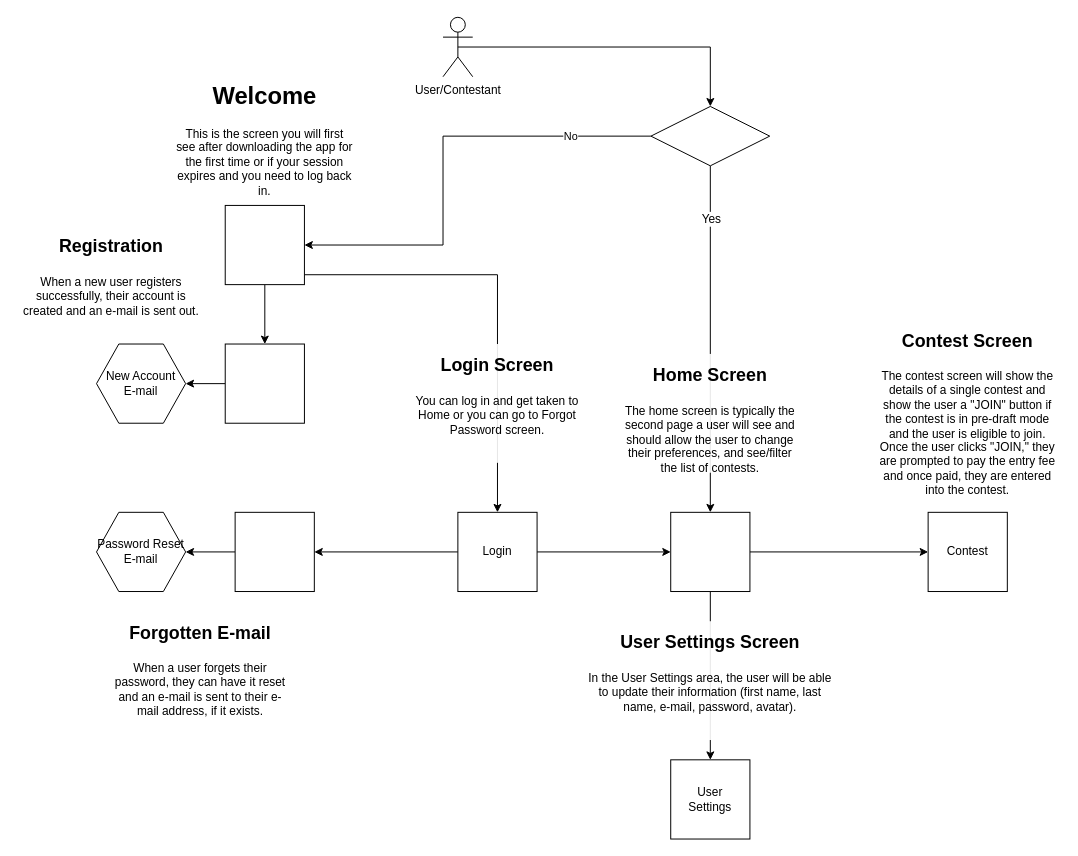
Image size: 1078x856. Some labels were removed from this diagram. The shapes that lost their labels are listed below. From the top down, each one's centre as x and y in pixels, then its label:
pixel 710 135: Authenticated?
pixel 264 244: Welcome
pixel 264 383: Register
pixel 274 551: Forgot Password
pixel 710 551: Home
